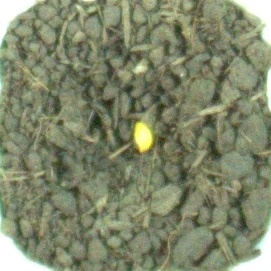pepper seed: (52, 43, 209, 197)
